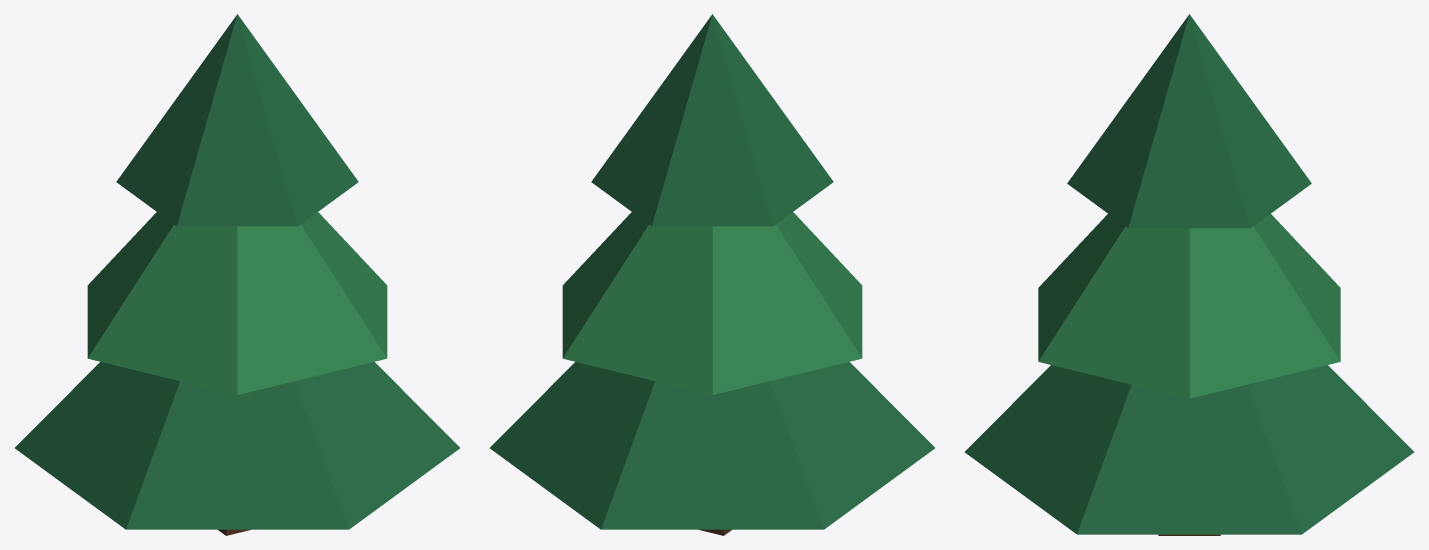
Rendered from pine.glb.
The picture shows the model from 3 angles, left to right: view 1: azimuth 30°, elevation 25°; view 2: azimuth 150°, elevation 25°; view 3: azimuth 270°, elevation 25°; orthographic projection.
Parts seen in each view (by area): view 1: low, middle, top; view 2: low, middle, top; view 3: low, middle, top.
Boxes of the visible parts, bbox=[...] form: low: bbox=[15, 362, 459, 529]; middle: bbox=[87, 212, 387, 394]; top: bbox=[116, 14, 358, 226]; low: bbox=[490, 362, 934, 529]; middle: bbox=[562, 212, 862, 394]; top: bbox=[591, 14, 833, 226]; low: bbox=[964, 365, 1414, 534]; middle: bbox=[1038, 214, 1340, 398]; top: bbox=[1067, 14, 1311, 228].
Size of the model in its own units: 0.25 by 0.36 by 0.2887.
